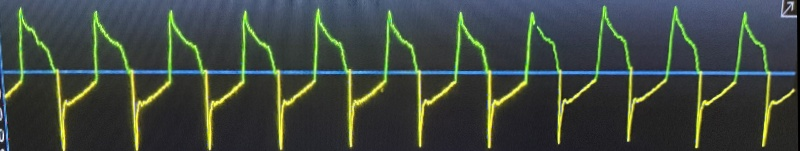peepi: (0, 0, 782, 151)
